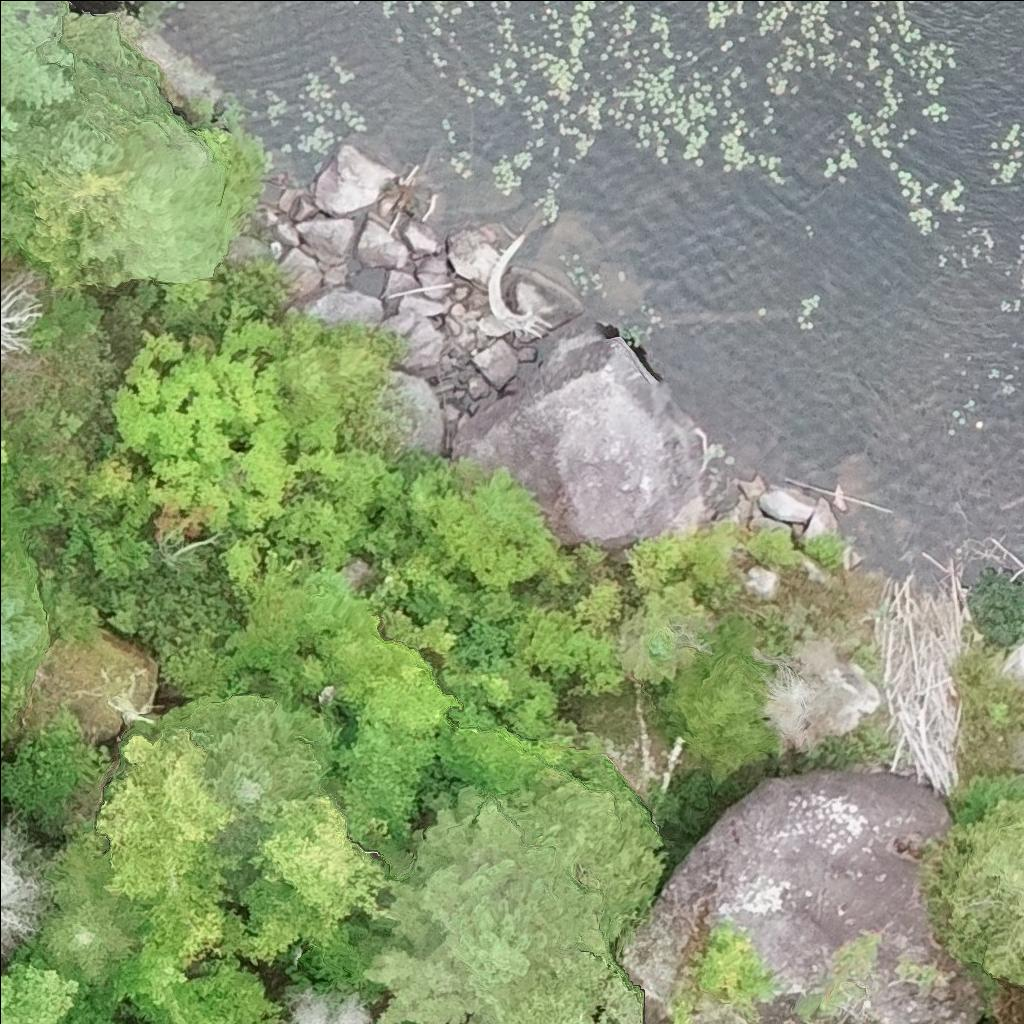crown: (364, 783, 609, 1023), (91, 708, 254, 961), (298, 608, 460, 839), (490, 757, 668, 949), (233, 795, 401, 967), (171, 693, 346, 847), (39, 820, 146, 984), (937, 796, 1023, 983), (433, 704, 567, 795), (0, 0, 75, 160), (103, 936, 232, 1023), (0, 935, 121, 1023), (498, 953, 641, 1023), (0, 810, 62, 959), (275, 313, 342, 425), (324, 320, 398, 411), (0, 550, 48, 687), (0, 266, 46, 366), (0, 664, 32, 762), (291, 987, 377, 1023), (0, 486, 23, 553), (0, 438, 8, 471), (0, 799, 5, 822)
